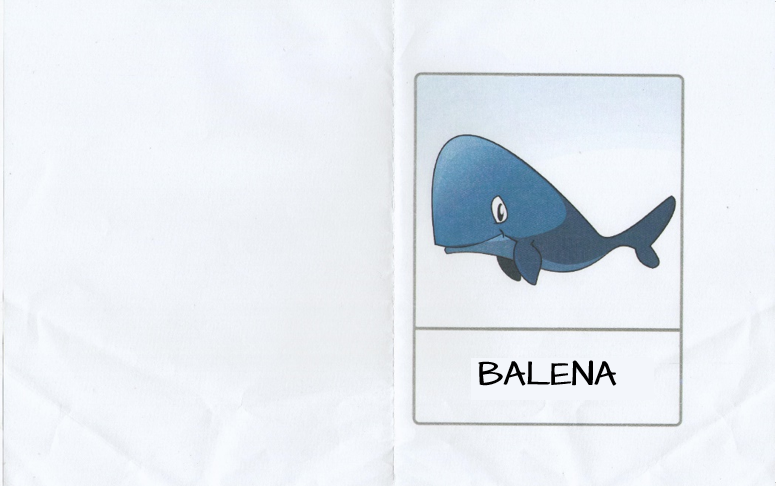balena: (411, 92, 685, 411)
